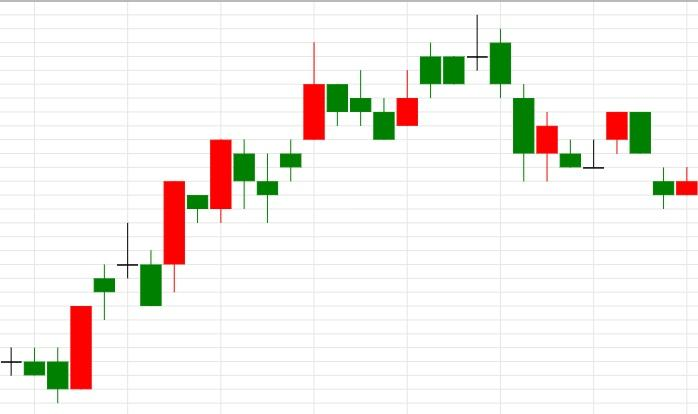bearish_engulfing_fall: (559, 111, 652, 169)
